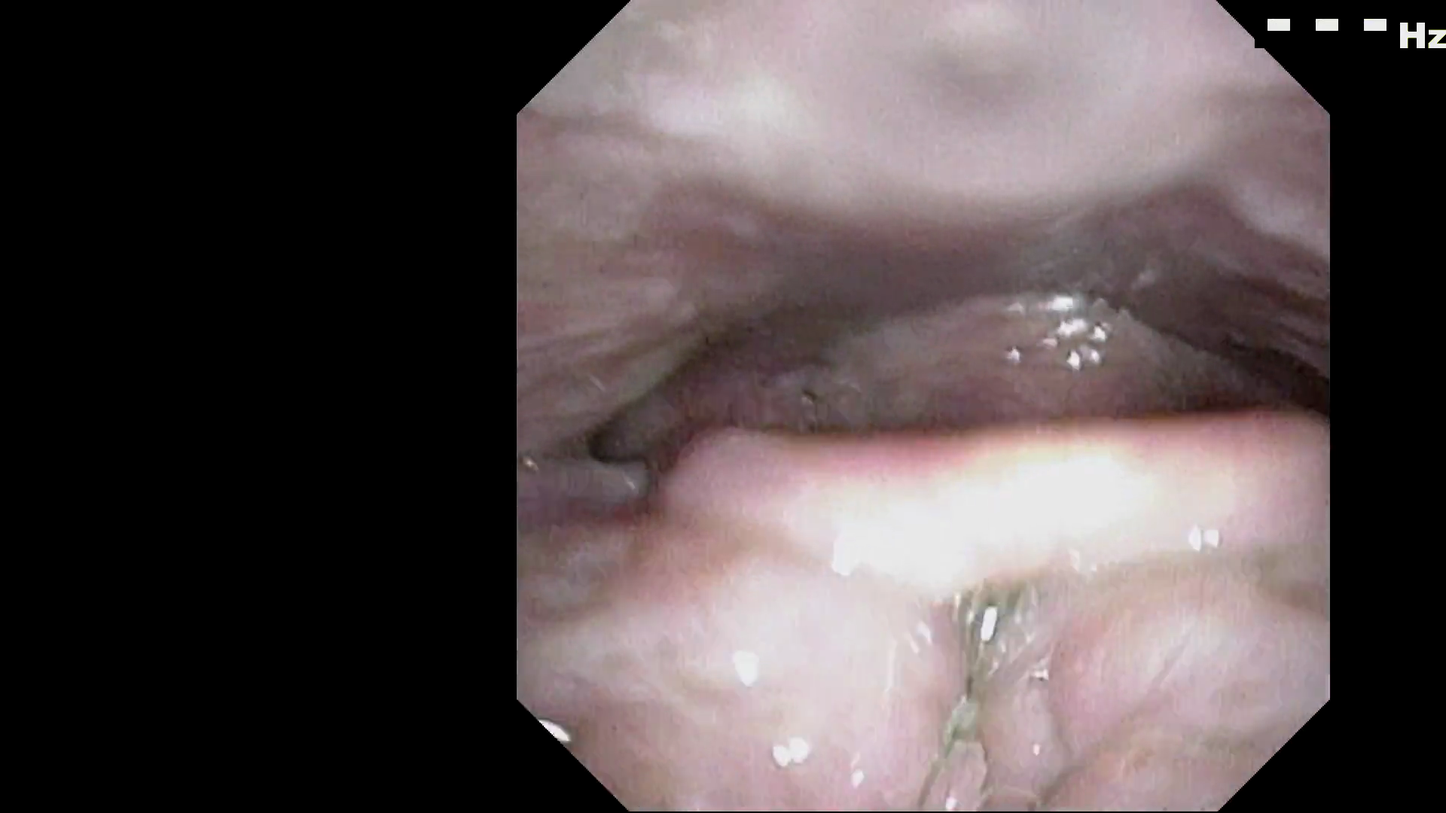epiglottis: (713, 440, 1263, 607)
